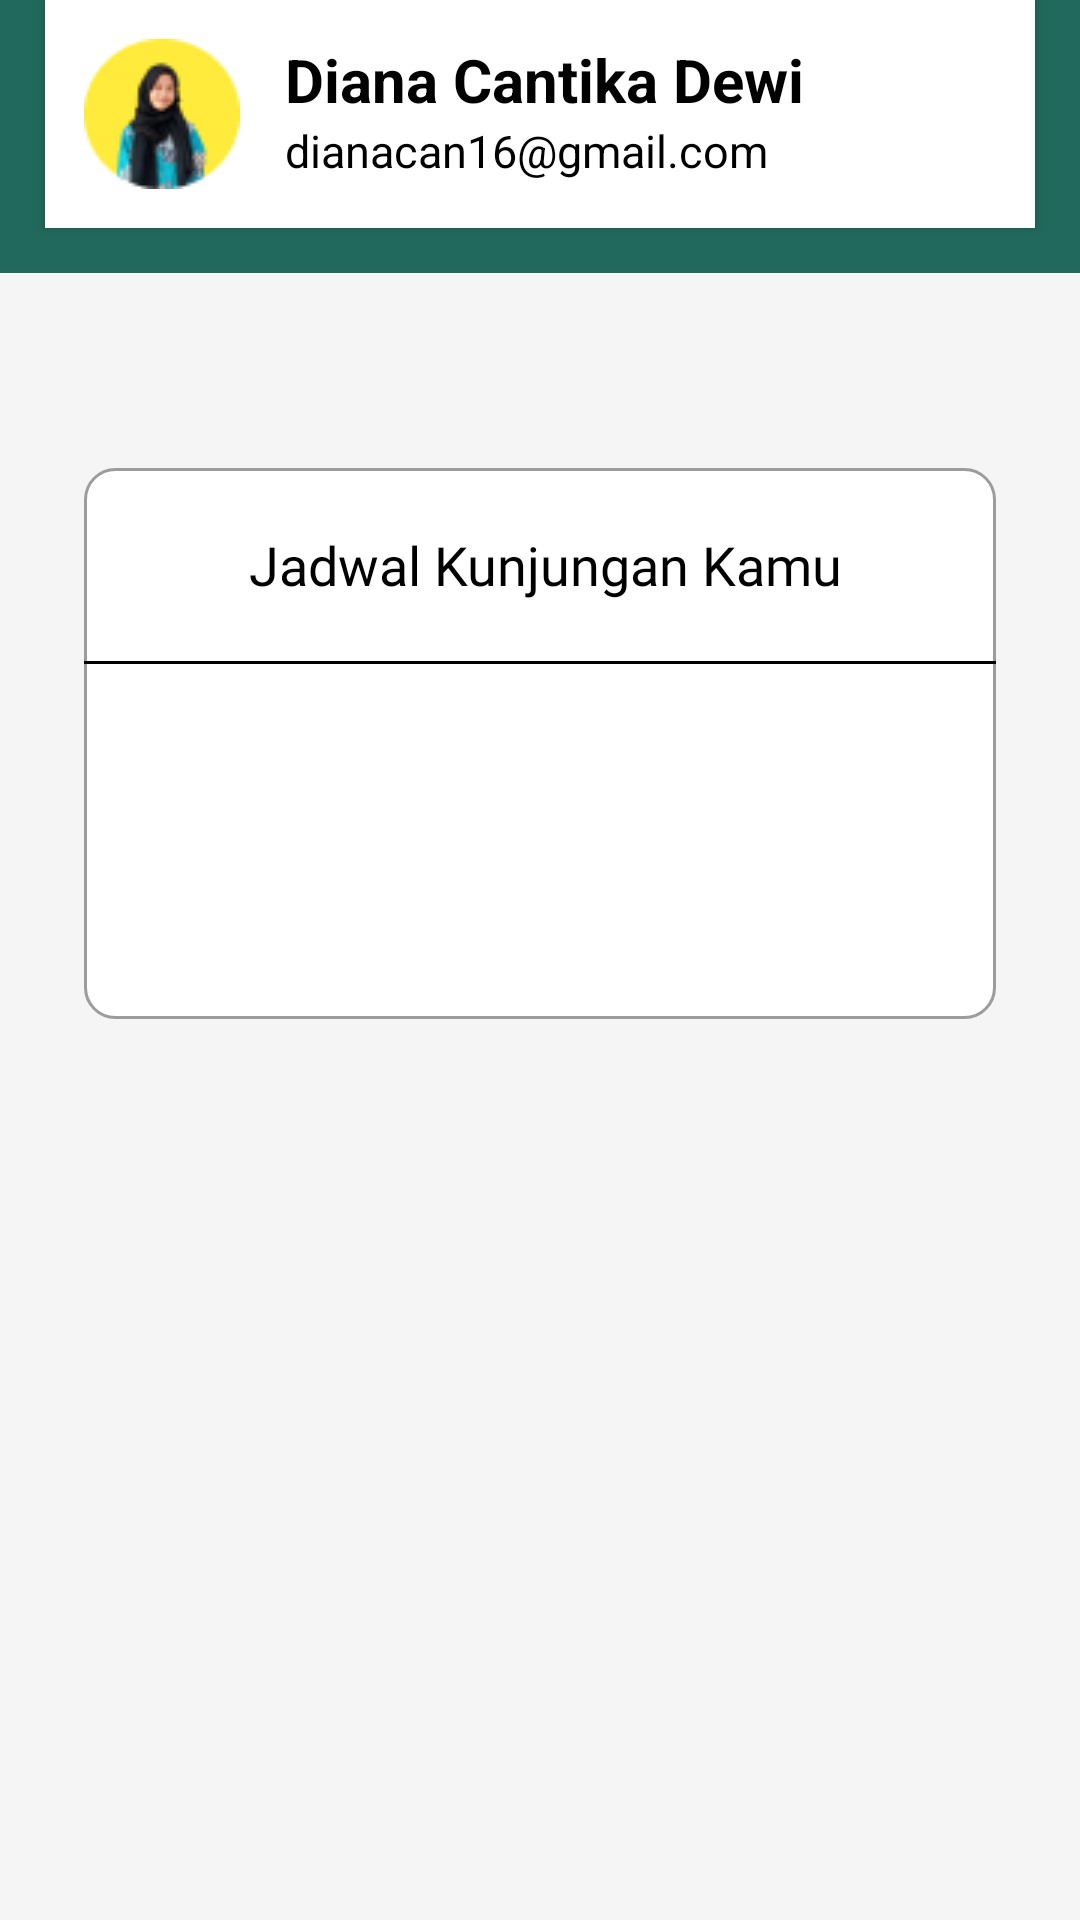

Where icons sit on this 1080 × 1920 app screen, as (x1, y1, x2, y2):
potoprofil: (84, 39, 240, 189)
